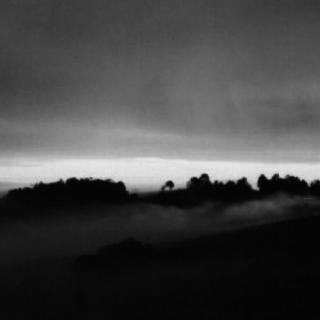Nimbostratus: (0, 1, 320, 240)
